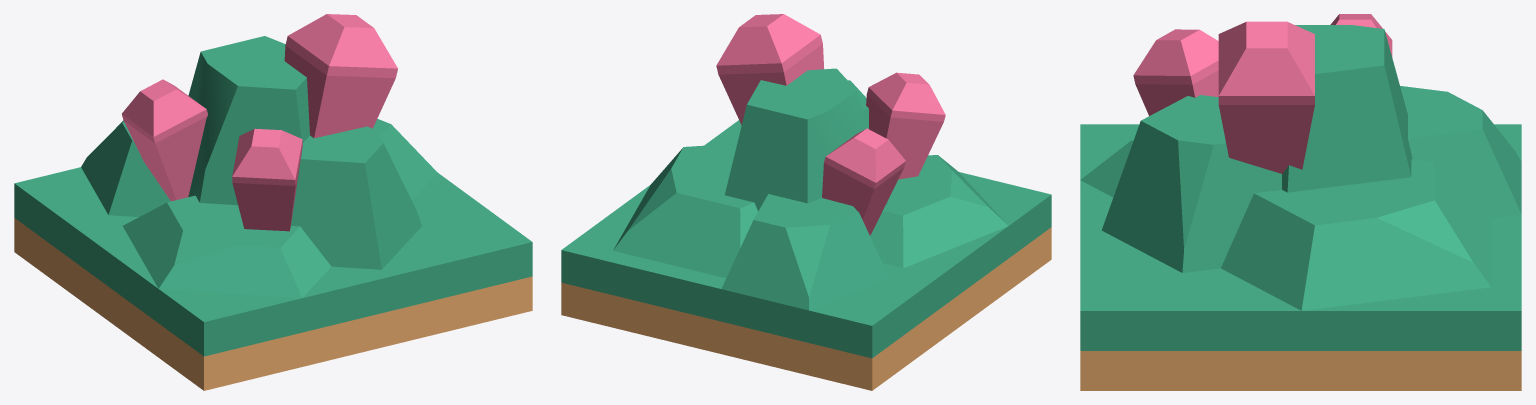
Rendered from tile_crystal.fbx.
3 views of the same model, side by side, from view 1: azimuth 30°, elevation 25°; view 2: azimuth 150°, elevation 25°; view 3: azimuth 270°, elevation 25° (orthographic). The views are drawn at different scales.
Visible parts, largest first — view 1: tile_crystal, rocks, crystal (×3); view 2: rocks, tile_crystal, crystal (×3); view 3: rocks, tile_crystal, crystal (×3).
Boxes of the visible parts, x1,y1,x2,y2 form: tile_crystal: (14,167,532,390); rocks: (81,36,437,298); crystal (×3): (122,14,397,231); rocks: (613,68,1007,310); tile_crystal: (561,120,1051,390); crystal (×3): (716,14,945,235); rocks: (1080,25,1521,310); tile_crystal: (1080,124,1521,390); crystal (×3): (1133,14,1392,173).
Size of the model in its own units: 10 by 7.56 by 10.
